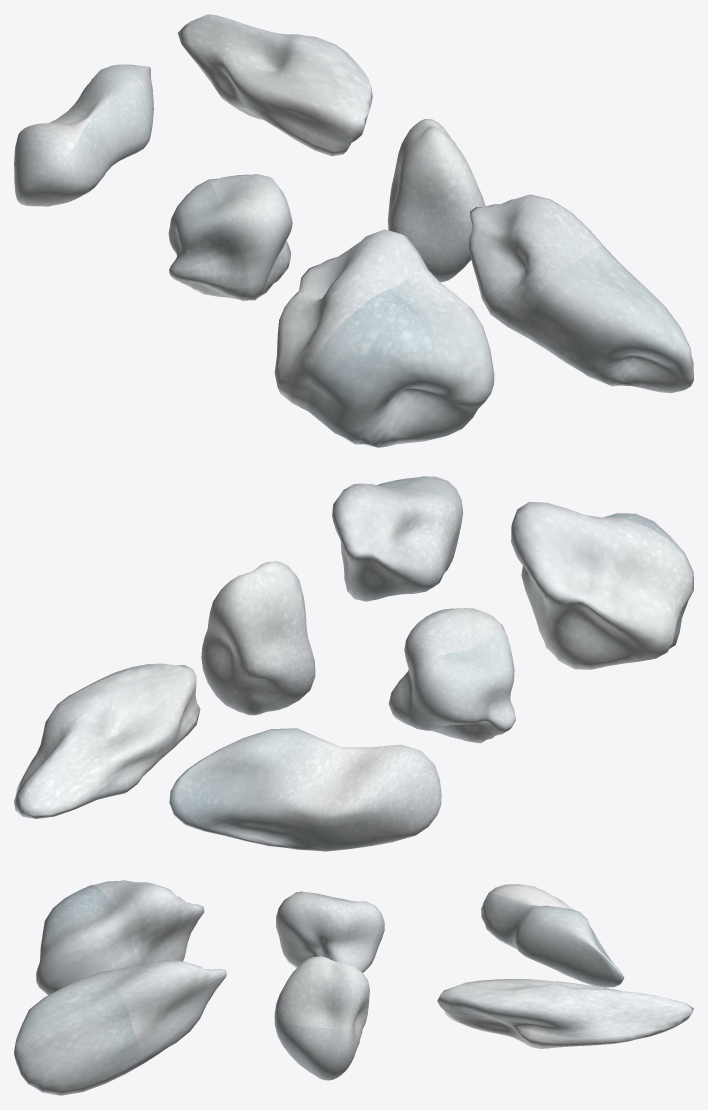
File: Rocks.fbx
3 renders of one model, top to bottom at view 1: azimuth 30°, elevation 25°; view 2: azimuth 150°, elevation 25°; view 3: azimuth 270°, elevation 25°, orthographic. The views are drawn at different scales.
Parts seen in each view (by area): view 1: Rock.005, Rock.004, Rock.006, Rock.003, Rock.001, Rock.002; view 2: Rock.001, Rock.005, Rock.006, Rock.002, Rock.003, Rock.004; view 3: Rock.004, Rock.006, Rock.005, Rock.002, Rock.001, Rock.003.
Boxes of the visible parts, x1,y1,x2,y2 form: Rock.005: (274, 229, 494, 447); Rock.004: (469, 194, 693, 393); Rock.006: (177, 14, 372, 156); Rock.003: (168, 174, 292, 300); Rock.001: (14, 64, 153, 206); Rock.002: (388, 119, 485, 282); Rock.001: (169, 728, 441, 851); Rock.005: (511, 501, 693, 669); Rock.006: (14, 663, 200, 818); Rock.002: (201, 561, 315, 715); Rock.003: (388, 608, 515, 743); Rock.004: (332, 476, 463, 601); Rock.004: (14, 960, 226, 1095); Rock.006: (437, 979, 693, 1048); Rock.005: (36, 880, 204, 995); Rock.002: (274, 956, 369, 1080); Rock.001: (481, 884, 624, 987); Rock.003: (276, 891, 384, 972).
Size of the model in its own units: 1498 by 671 by 3137.
Materials: 1 (1 with a texture image).
